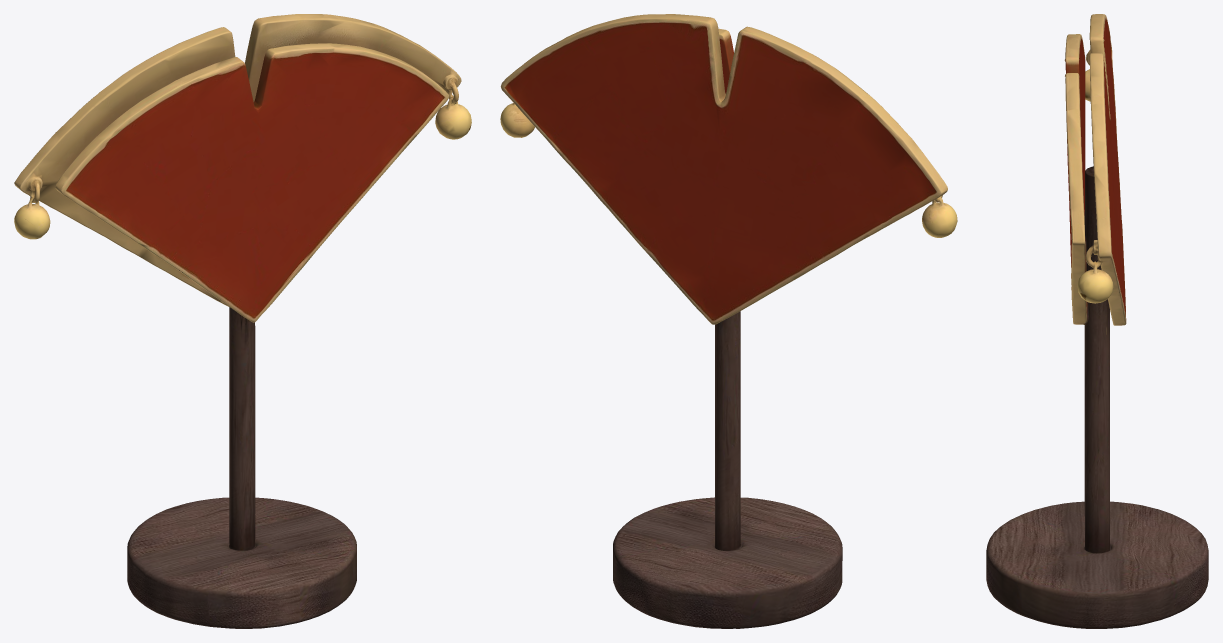
File: cho.glb
3 renders of one model, left to right at view 1: azimuth 30°, elevation 25°; view 2: azimuth 150°, elevation 25°; view 3: azimuth 270°, elevation 25°, orthographic. The views are drawn at different scales.
Visible parts, largest first — view 1: tosen_cho; view 2: tosen_cho; view 3: tosen_cho.
Boxes of the visible parts, x1=… form: tosen_cho: x1=14, y1=14, x2=471, y2=628; tosen_cho: x1=500, y1=14, x2=957, y2=628; tosen_cho: x1=986, y1=14, x2=1208, y2=628.
Size of the model in its own units: 0.0781 by 0.092 by 0.0344.
Materials: 1 (1 with a texture image).
